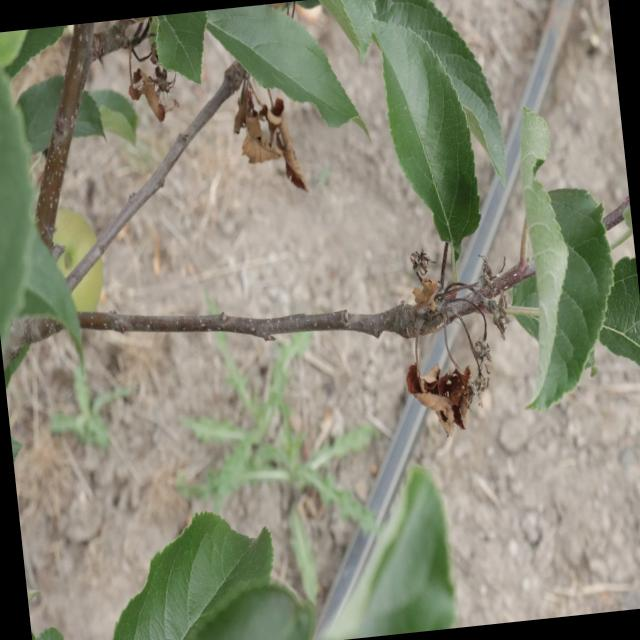-FireBlight-: (395, 322, 497, 438), (234, 76, 306, 199), (120, 56, 180, 126)
